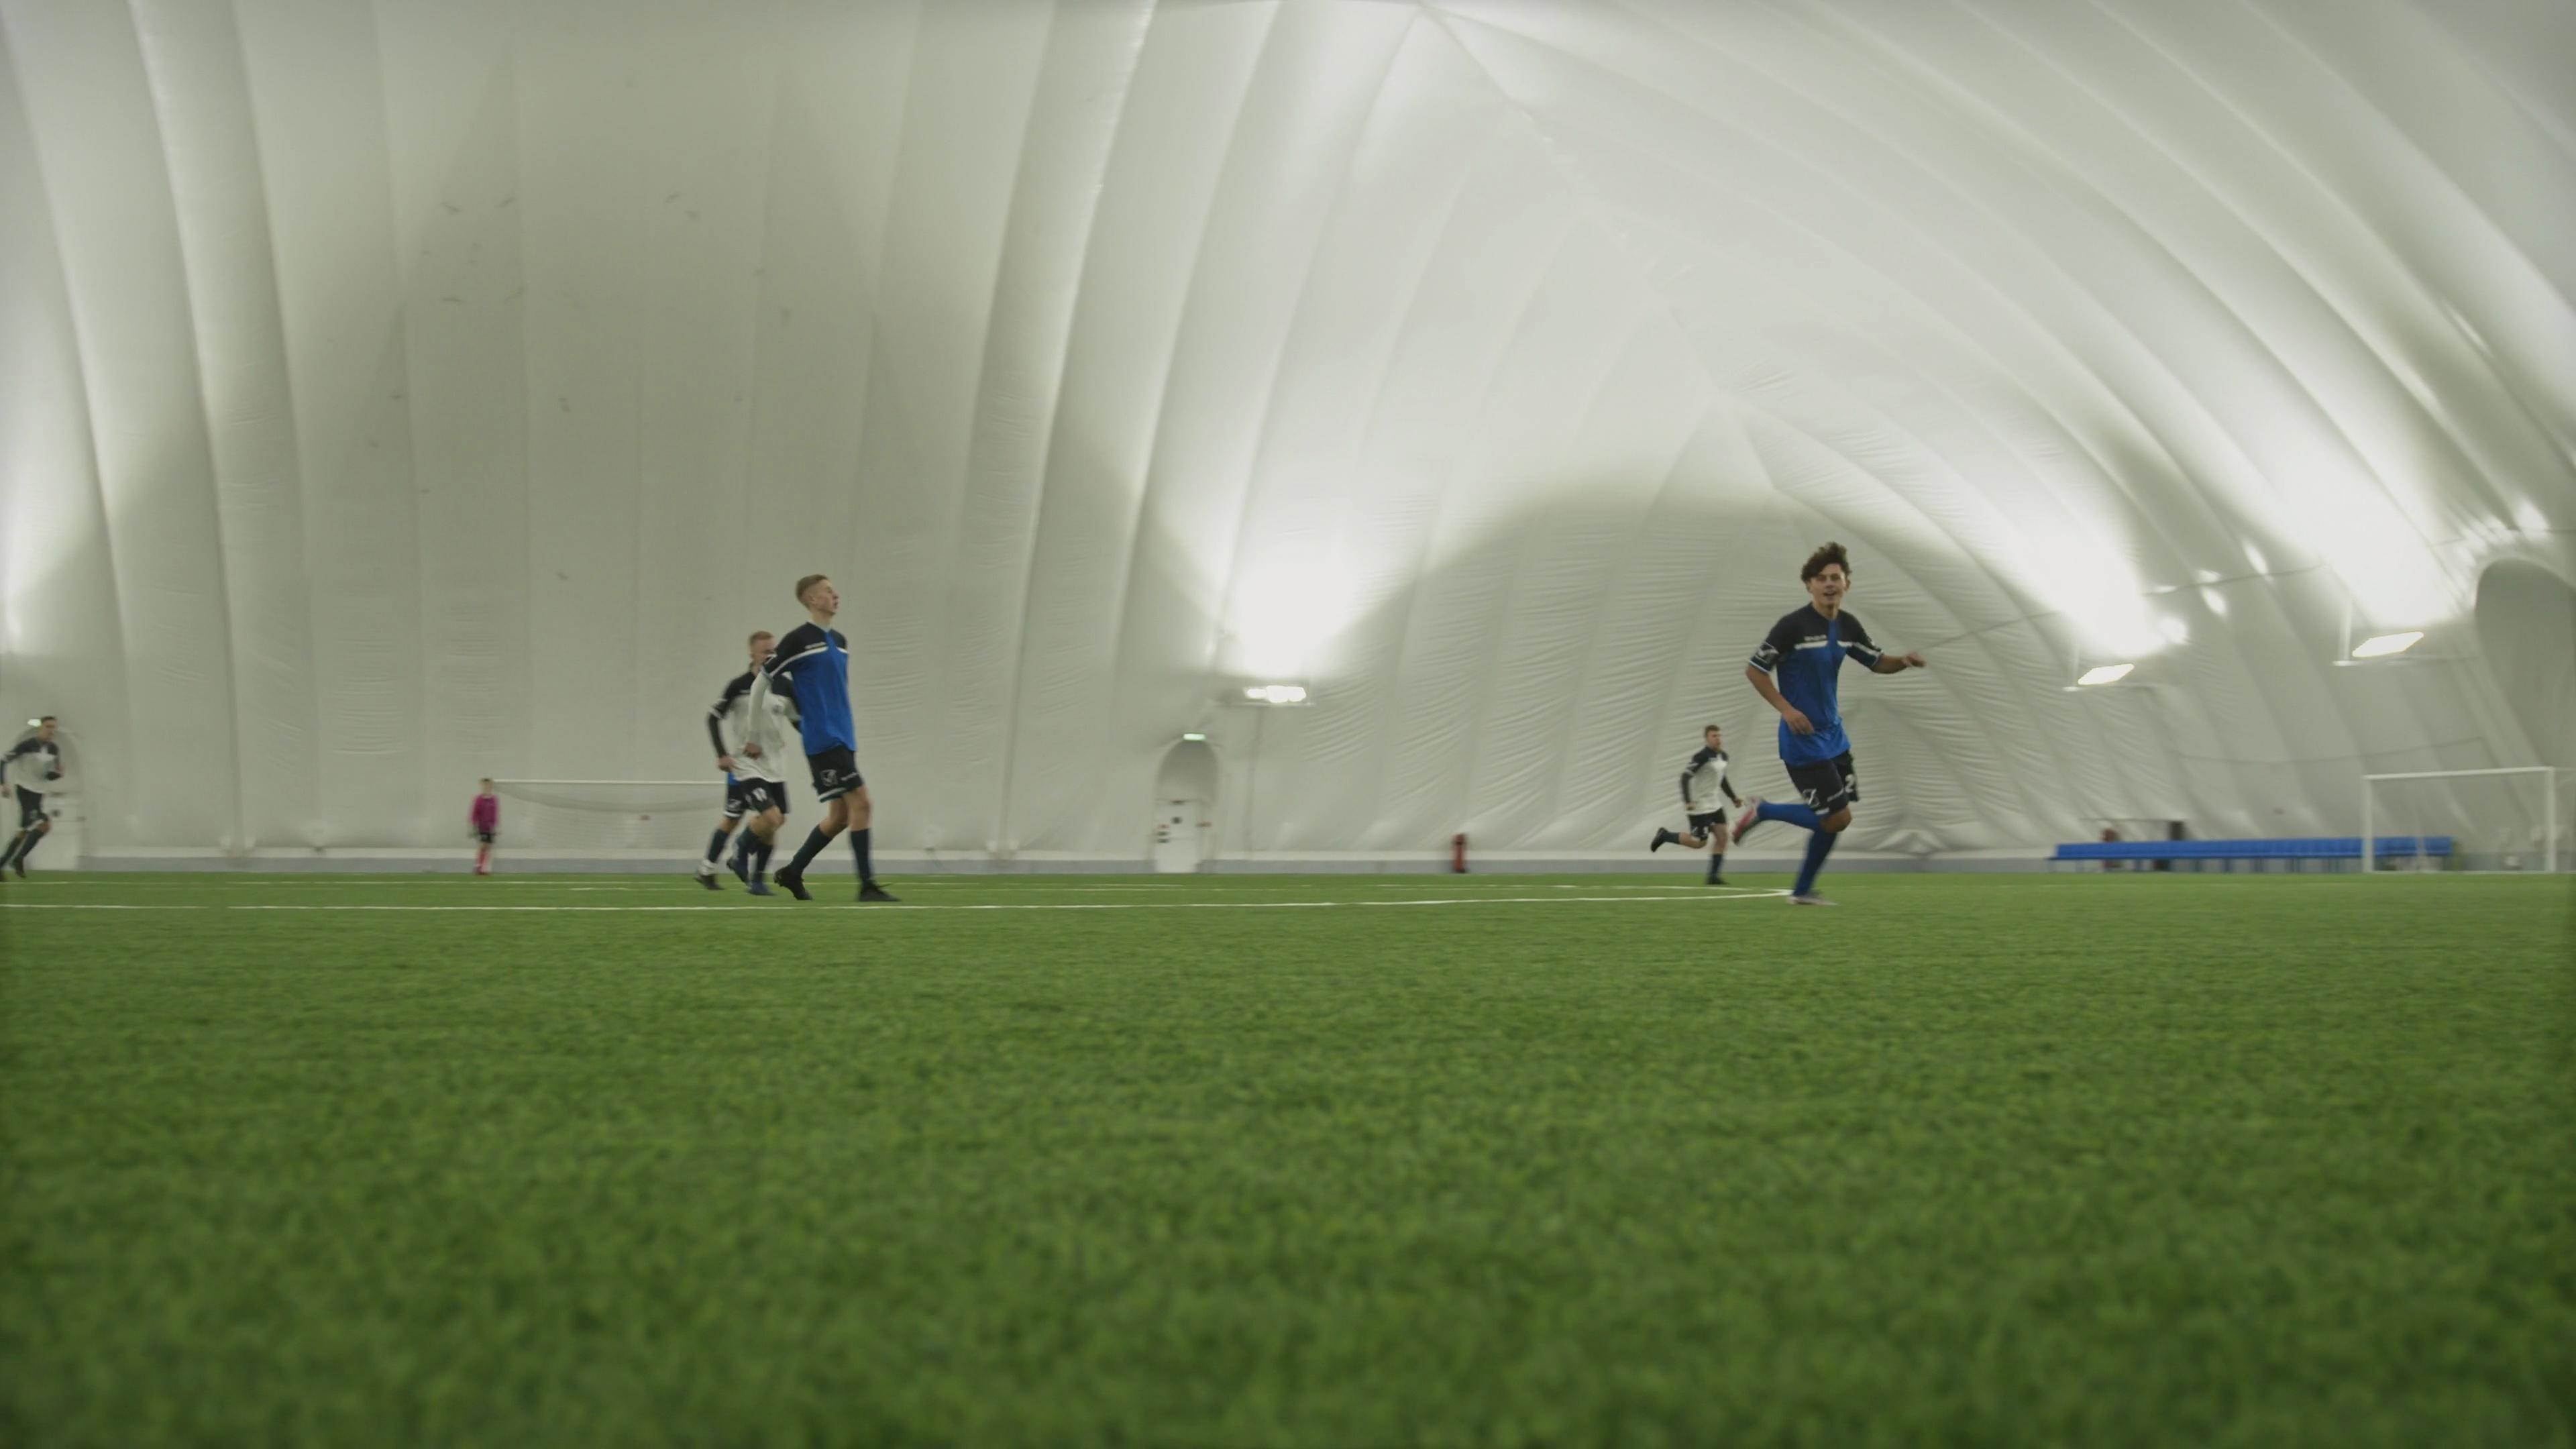team1: (1743, 547, 1930, 902), (759, 568, 886, 906)
team1gk: (467, 777, 502, 881)
team2: (702, 628, 807, 885), (1675, 724, 1753, 888), (0, 713, 71, 883)
